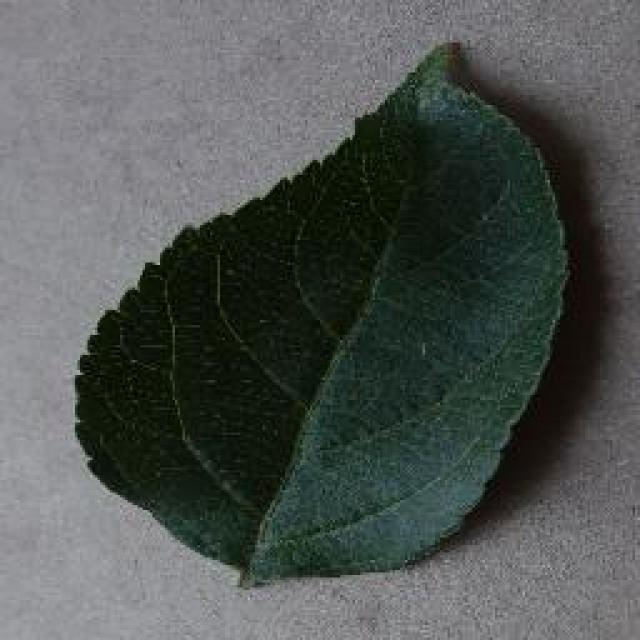apple healthy: (70, 38, 572, 588)
